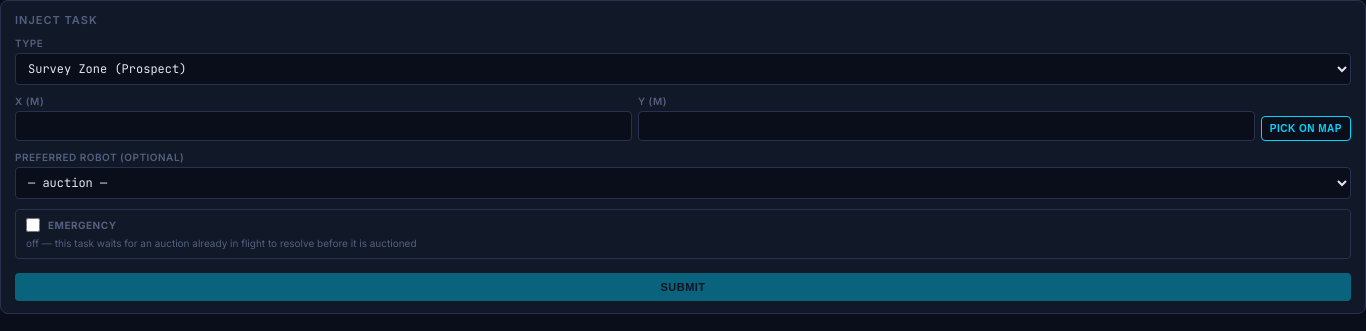
Test: arming is deliberate and does not persist › the armed panel says so in three places at once
Click the checkbox labelled "Emergency".
click(33, 225)  # box [26, 218, 40, 232]
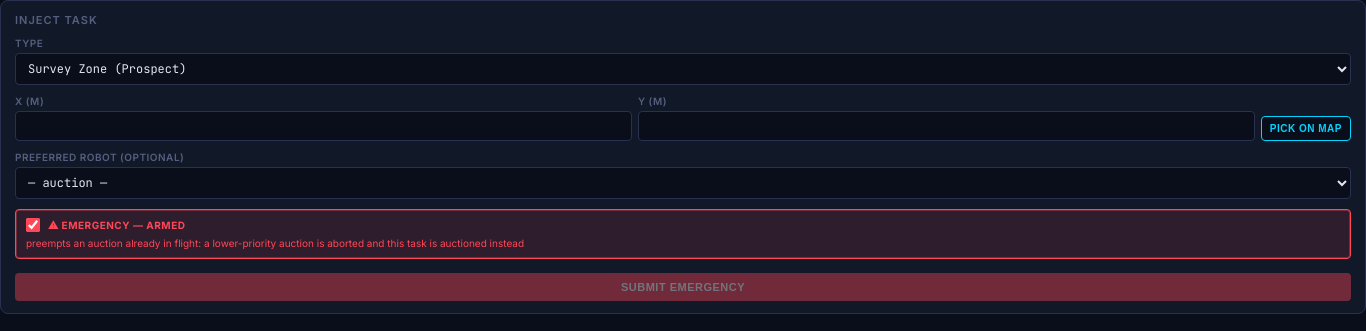
Check: the checkbox labelled "⚠ EMERGENCY — ARMED" is checked, box [26, 218, 40, 232]
Check: the element with class "task-injector__emergency--armed" is shown, box [15, 209, 1351, 259]
Check: the submit button reads "Submit EMERGENCY", box [15, 273, 1351, 301]
